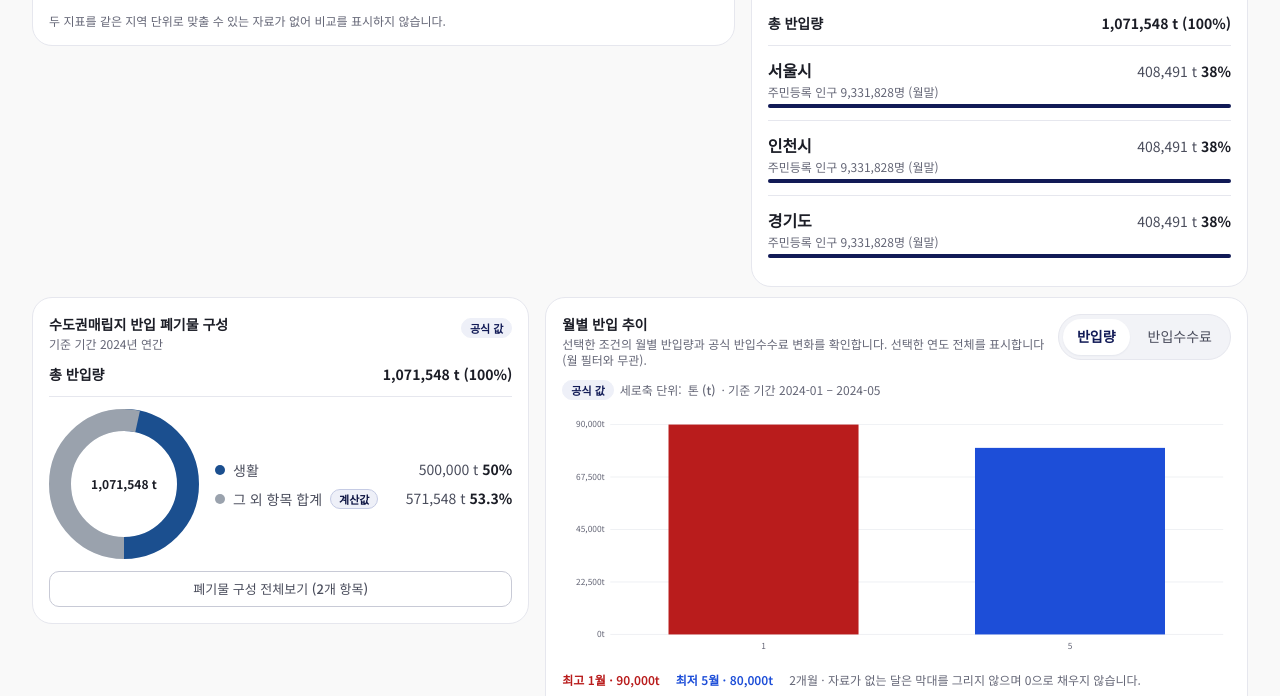
Test: LandfillDashboard — Phase 5 desktop hierarchy › keeps trend gaps as gaps and never as zero bars
The image size is (1280, 696).
(page scrolled)
Expected: the element with test id "landfill-trends" shows "자료가 없는 달은 막대를 그리지 않으며 0으로 채우지 않습니다", [796, 671, 1141, 688]
Expected: the element with test id "landfill-trends" shows "톤 (t)", [688, 381, 715, 398]
Click the button with test id "landfill-trend-metric-fee" at coordinates (1180, 337), box [1134, 319, 1226, 355]
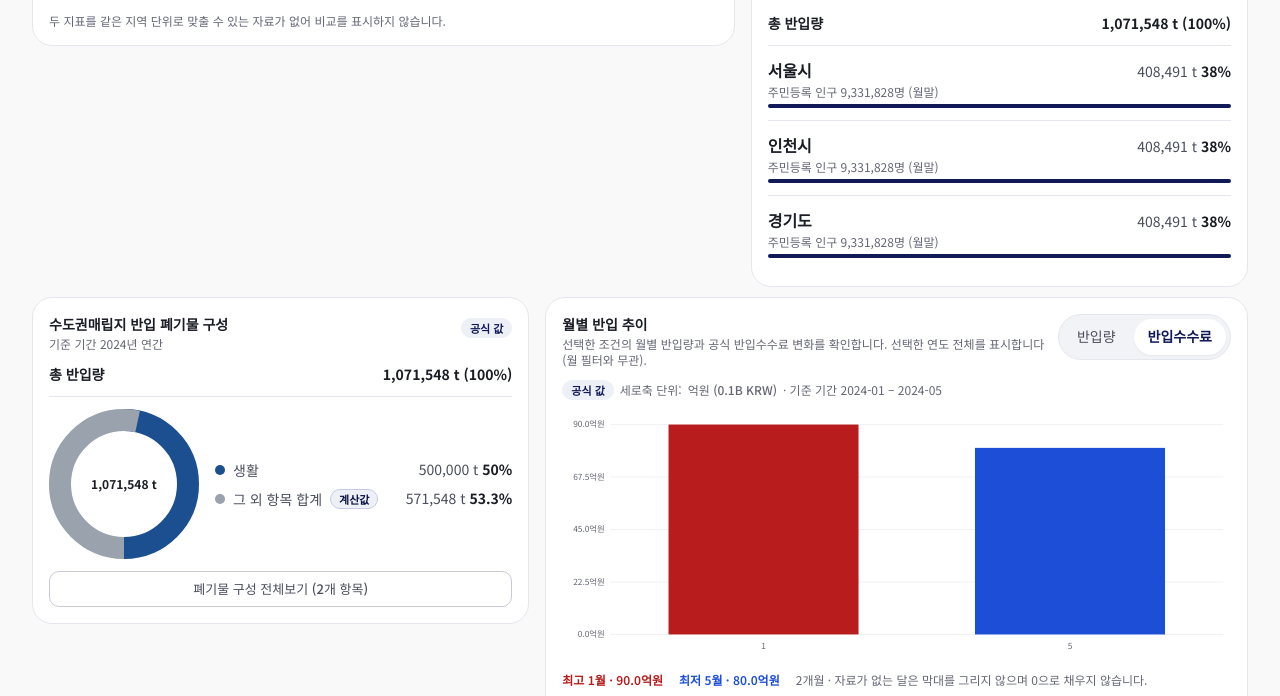
Result: the text with test id "landfill-trends" no longer shows "톤 (t)"
